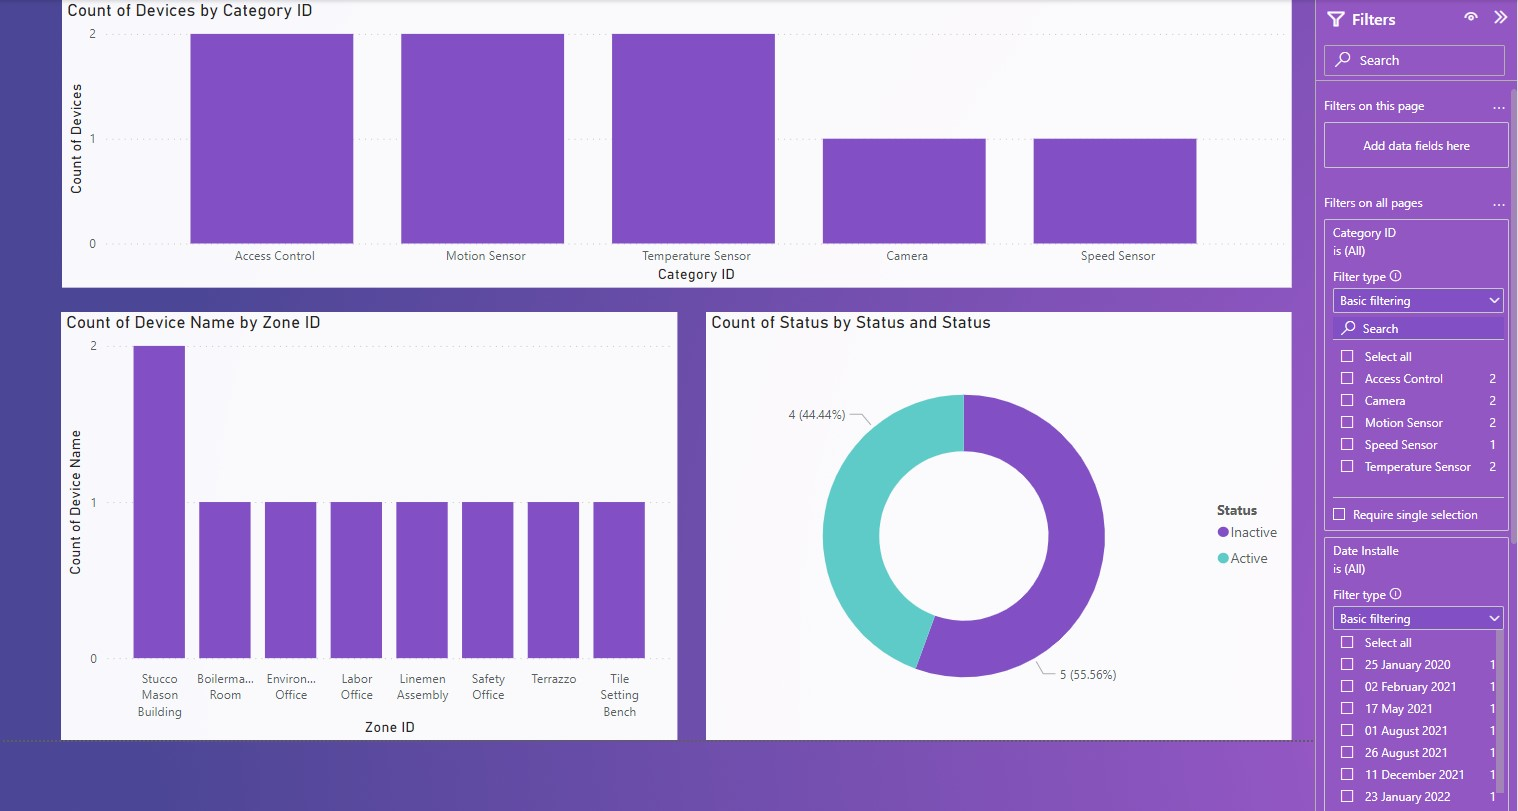

What the dashboard file says about the page in this screenshot:
{"tool":"powerbi","page":{"name":"Device Monitoring","canvas":[1280,720],"ordinal":1},"visuals":[{"type":"columnChart","fields":{"Category":["Device.Category ID"],"Y":["Count(Device.Device Name)"]},"box":[60.3,0,1197.3,280.1],"z":0},{"type":"columnChart","fields":{"Category":["Device.Zone ID"],"Y":["CountNonNull(Device.Device Name)"]},"box":[59.4,303.7,599.6,416.6],"z":1000},{"type":"donutChart","fields":{"Category":["Device.Status","Device.Is Active"],"Series":["Device.Status"],"Y":["CountNonNull(Device.Status)"]},"box":[687.2,303.7,570.4,416.6],"z":2000}]}

Visuals, with their boxes on the page's 1280x720 design canvas (x1, y1, x2, y2). These are canvas units, not pixel positions in the 1518x811 screenshot, which may show the page scaled, cropped or inside an application window:
columnChart - Device.Category ID x Count(Device.Device Name): bbox=[60, 0, 1258, 280]
columnChart - Device.Zone ID x CountNonNull(Device.Device Name): bbox=[59, 304, 659, 720]
donutChart - Device.Status x Device.Is Active: bbox=[687, 304, 1258, 720]
